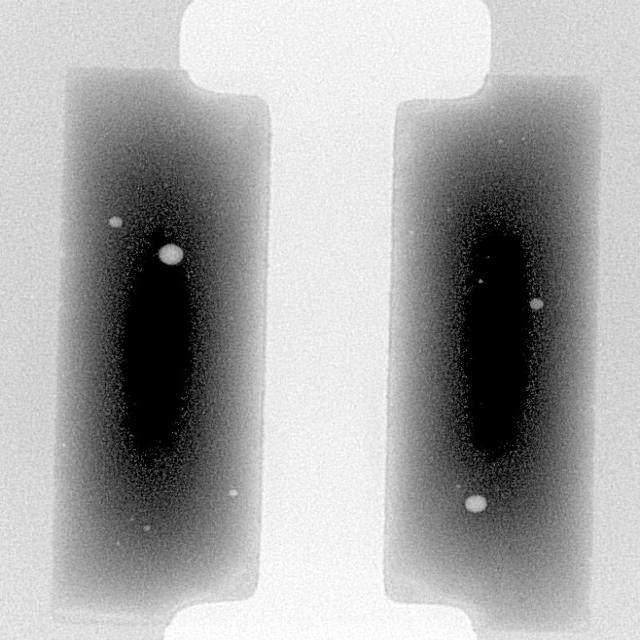component: (54, 70, 267, 622), (386, 76, 598, 630)
void: (158, 244, 184, 265), (465, 495, 488, 515), (530, 298, 546, 311), (107, 216, 123, 228), (229, 490, 238, 498)
